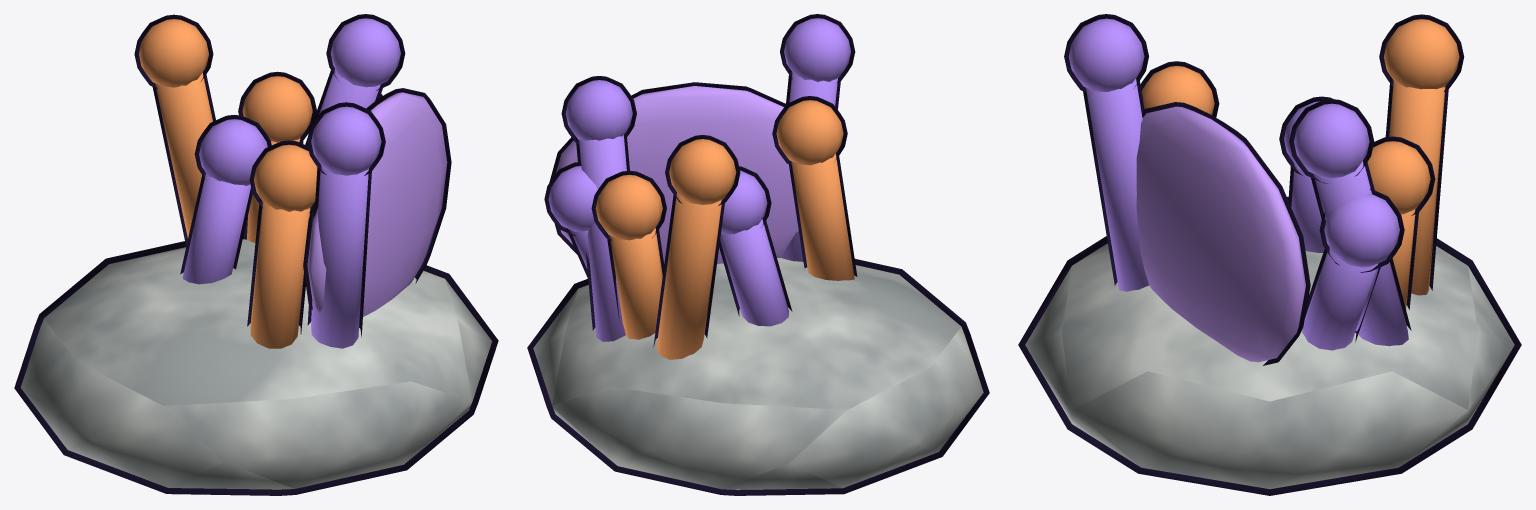
Rendered from coral1.glb.
3 views of the same model, side by side, from view 1: azimuth 30°, elevation 25°; view 2: azimuth 150°, elevation 25°; view 3: azimuth 270°, elevation 25° (orthographic). The views are drawn at different scales.
Parts seen in each view (by area): view 1: coral1; view 2: coral1; view 3: coral1.
Part boxes in pixels (x1,y1,x2,y2): coral1: (14,14,498,495); coral1: (527,14,989,495); coral1: (1018,14,1521,495).
Size of the model in its own units: 0.8787 by 0.8248 by 0.864.
5 materials, 1 textured.
